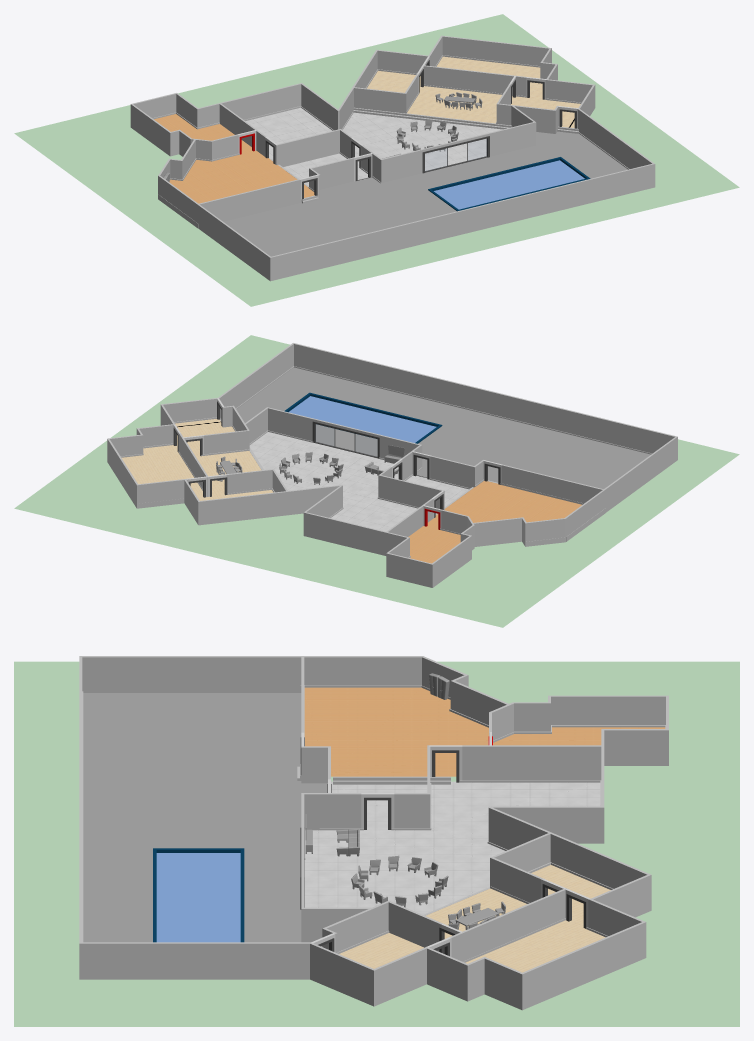
Rendered from Villa_14.fbx.
The picture shows the model from 3 angles, top to bottom: view 1: azimuth 30°, elevation 25°; view 2: azimuth 150°, elevation 25°; view 3: azimuth 270°, elevation 25°; orthographic projection. The views are drawn at different scales.
Parts seen in each view (by area): view 1: polySurface244, polySurface243, new_wall_01, polySurface242, polySurface241, polySurface240, PoolWater, new_wall_23, new_wall_30, new_wall_13, new_wall_08, new_wall_26 (+18 smaller); view 2: polySurface244, polySurface243, new_wall_01, polySurface242, polySurface240, polySurface241, new_wall_11, PoolWater, new_wall_23, new_wall_13, new_wall_30, new_wall_02 (+22 smaller); view 3: polySurface244, polySurface243, polySurface242, polySurface240, new_wall_23, new_wall_02, PoolWater, polySurface241, new_wall_35, new_wall_08, new_wall_11, new_wall_26 (+24 smaller).
Part boxes in pixels (left/top/right/bottom): polySurface244: left=14, top=14, right=739, bottom=306; polySurface243: left=224, top=131, right=627, bottom=256; new_wall_01: left=269, top=163, right=655, bottom=281; polySurface242: left=245, top=107, right=502, bottom=185; polySurface241: left=367, top=56, right=580, bottom=128; polySurface240: left=154, top=114, right=314, bottom=203; PoolWater: left=434, top=160, right=584, bottom=209; new_wall_23: left=158, top=175, right=270, bottom=279; new_wall_30: left=197, top=179, right=300, bottom=222; new_wall_13: left=197, top=83, right=301, bottom=127; new_wall_08: left=441, top=35, right=551, bottom=65; new_wall_26: left=422, top=65, right=526, bottom=95; polySurface244: left=14, top=335, right=739, bottom=627; polySurface243: left=236, top=367, right=650, bottom=489; new_wall_01: left=292, top=343, right=677, bottom=460; polySurface242: left=249, top=432, right=468, bottom=531; polySurface240: left=408, top=481, right=581, bottom=563; polySurface241: left=121, top=419, right=273, bottom=500; new_wall_11: left=198, top=485, right=340, bottom=524; PoolWater: left=289, top=396, right=436, bottom=442; new_wall_23: left=565, top=437, right=676, bottom=541; new_wall_13: left=303, top=512, right=408, bottom=555; new_wall_30: left=502, top=464, right=605, bottom=508; new_wall_02: left=218, top=343, right=293, bottom=418; polySurface244: left=14, top=661, right=739, bottom=1026; polySurface243: left=83, top=693, right=327, bottom=946; polySurface242: left=304, top=781, right=600, bottom=914; polySurface240: left=304, top=687, right=665, bottom=776; new_wall_23: left=79, top=656, right=422, bottom=692; new_wall_02: left=79, top=942, right=311, bottom=979; PoolWater: left=156, top=853, right=240, bottom=942; polySurface241: left=339, top=865, right=610, bottom=972; new_wall_35: left=462, top=745, right=603, bottom=780; new_wall_08: left=520, top=922, right=646, bottom=1009; new_wall_11: left=488, top=807, right=649, bottom=888; new_wall_26: left=450, top=888, right=566, bottom=961.
Bounding box in the file's own units: 69.57 × 4.77 × 58.41.
13 materials, 3 textured.
